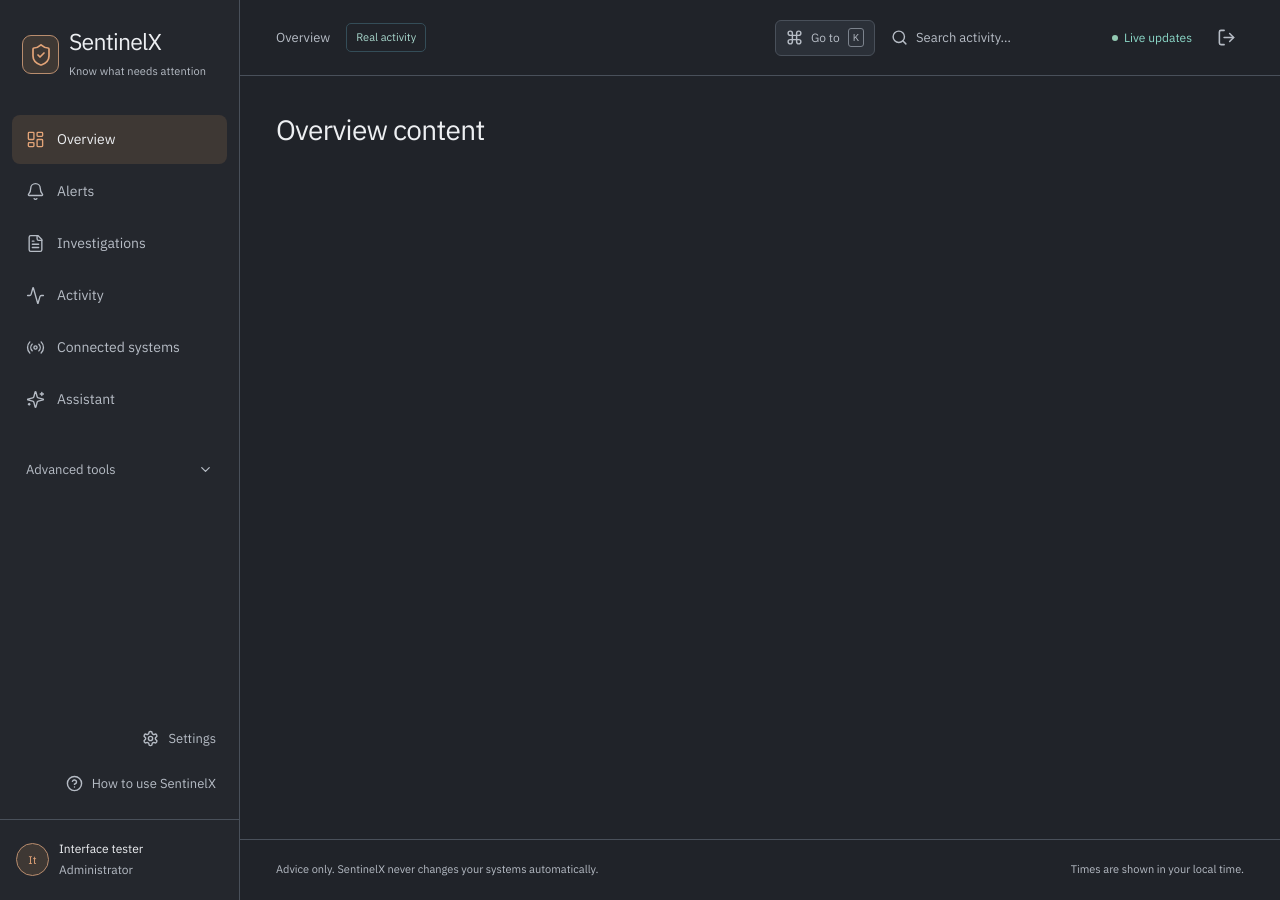
quick page navigation › opens with the keyboard, focuses search, and navigates on Enter
This screenshot has width=1280, height=900.
Press k
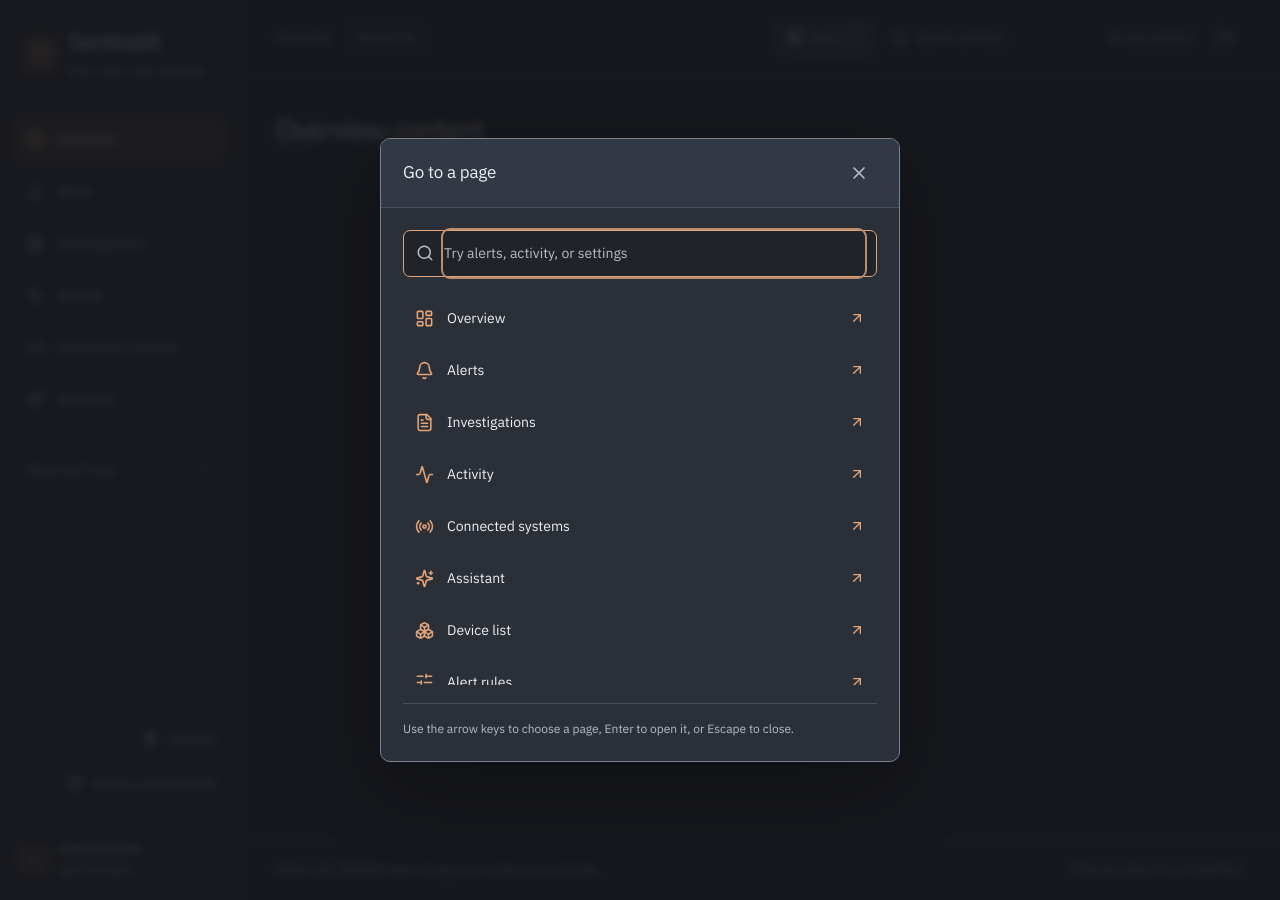
Type "alerts" into the field named "Find a page" at (654, 253), box [444,231,864,276]
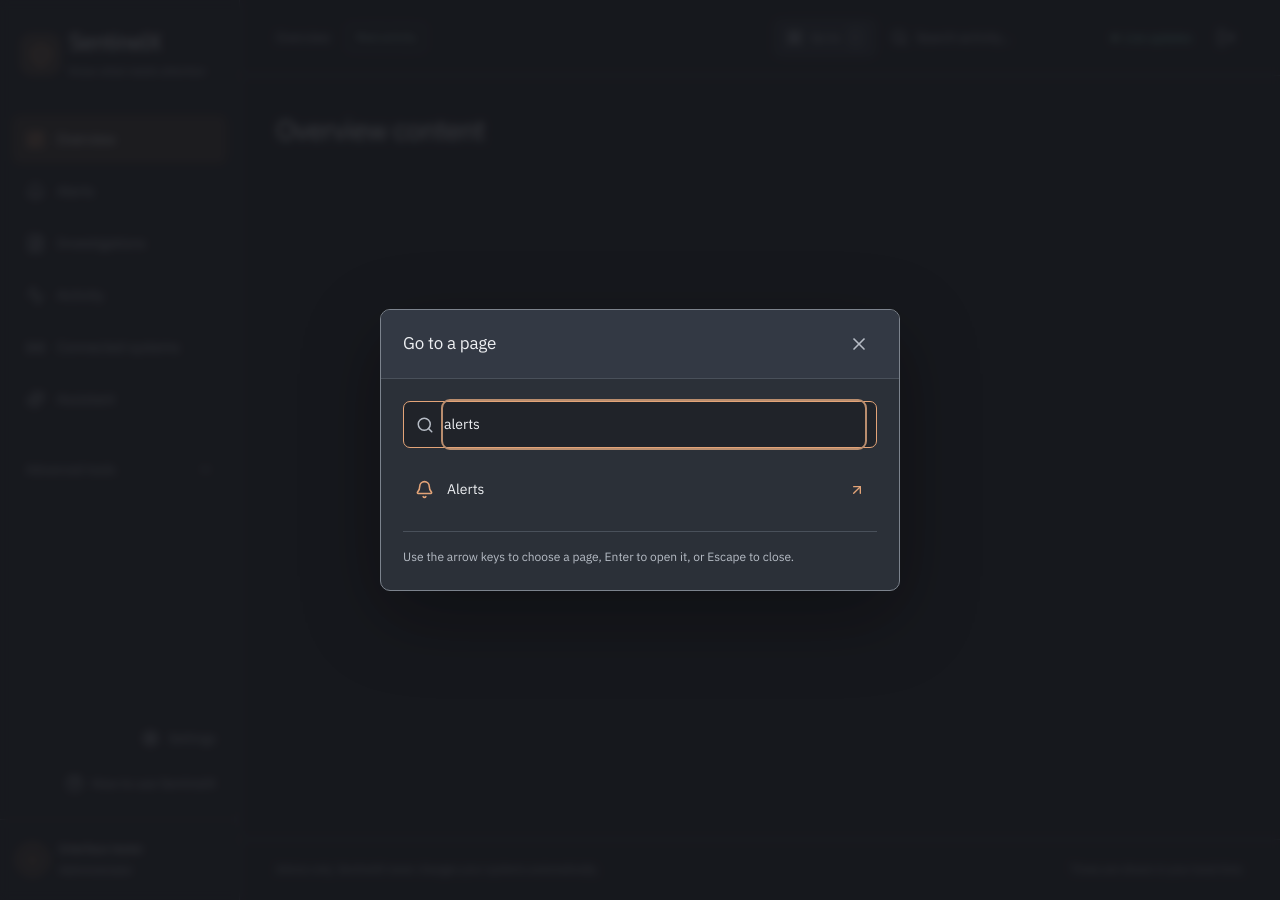
Result: the button "Alerts" is shown at [403,466,877,513]
Submit the form named "Find a page", box [403,401,877,568]
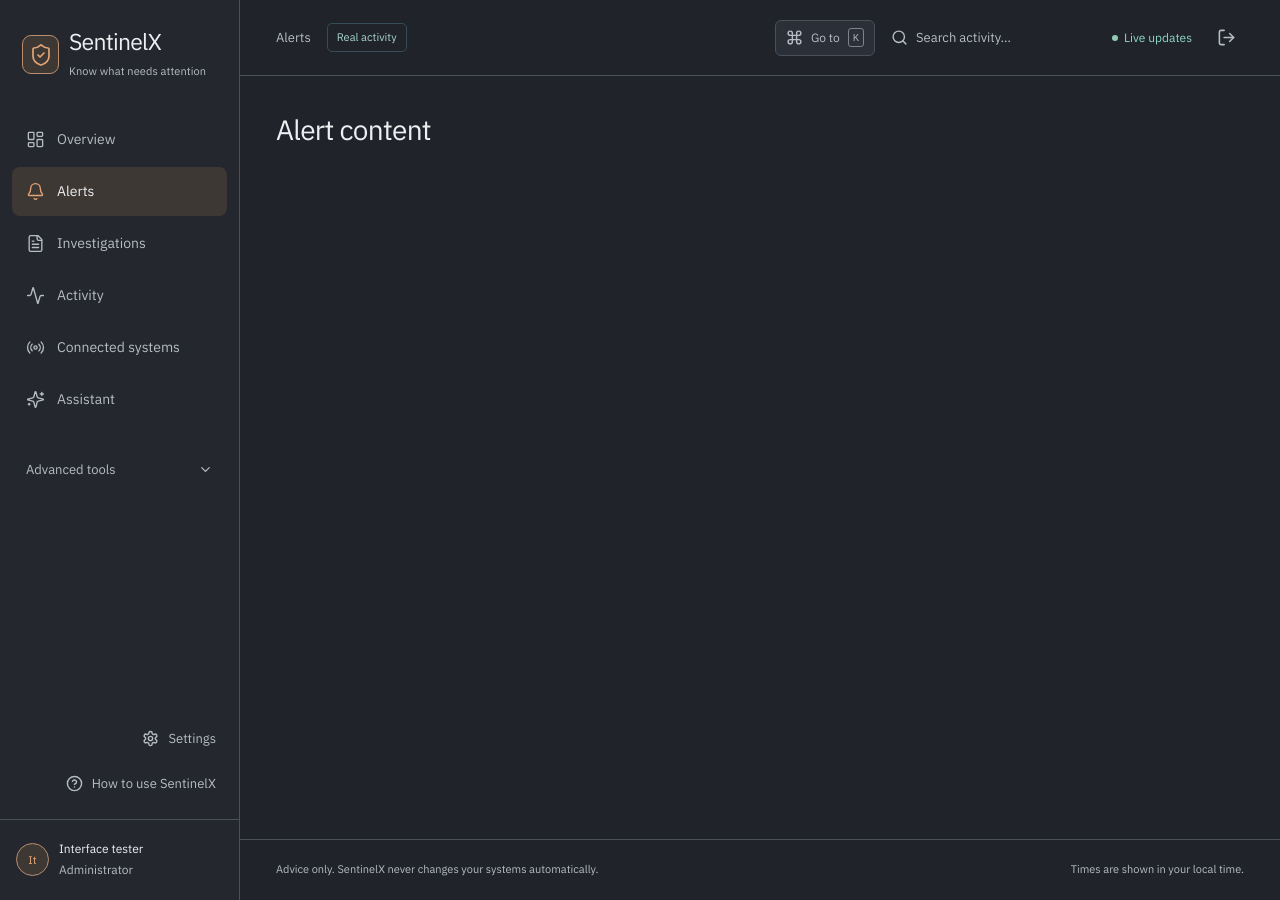
Result: the dialog is gone
Result: the heading "Alert content" is shown at [276,111,431,148]
